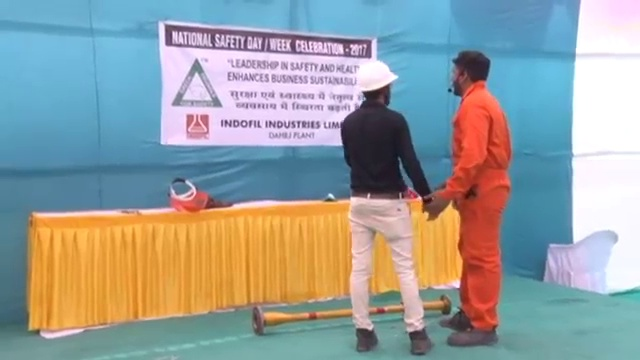helmet: (355, 60, 400, 92)
helmet_off: (449, 51, 490, 98)
helmet_on: (351, 58, 401, 109)
person: (335, 58, 437, 351), (425, 48, 515, 348)
